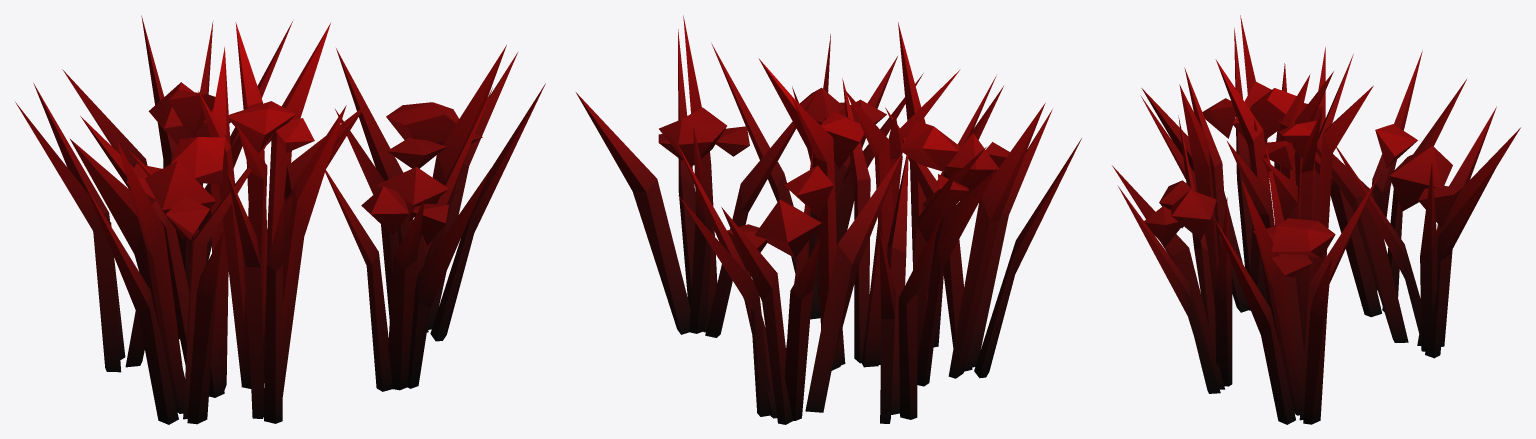
File: SM_Env_Plant_Grass_Flower_01.fbx
3 renders of one model, left to right at view 1: azimuth 30°, elevation 25°; view 2: azimuth 150°, elevation 25°; view 3: azimuth 270°, elevation 25°, orthographic. The views are drawn at different scales.
Visible parts, largest first — view 1: SM_Env_Plant_Grass_Flower_01; view 2: SM_Env_Plant_Grass_Flower_01; view 3: SM_Env_Plant_Grass_Flower_01.
Boxes of the visible parts, x1=… form: SM_Env_Plant_Grass_Flower_01: x1=15, y1=15, x2=545, y2=424; SM_Env_Plant_Grass_Flower_01: x1=576, y1=15, x2=1081, y2=424; SM_Env_Plant_Grass_Flower_01: x1=1112, y1=15, x2=1520, y2=424.
Size of the model in its own units: 316 by 197 by 265.
